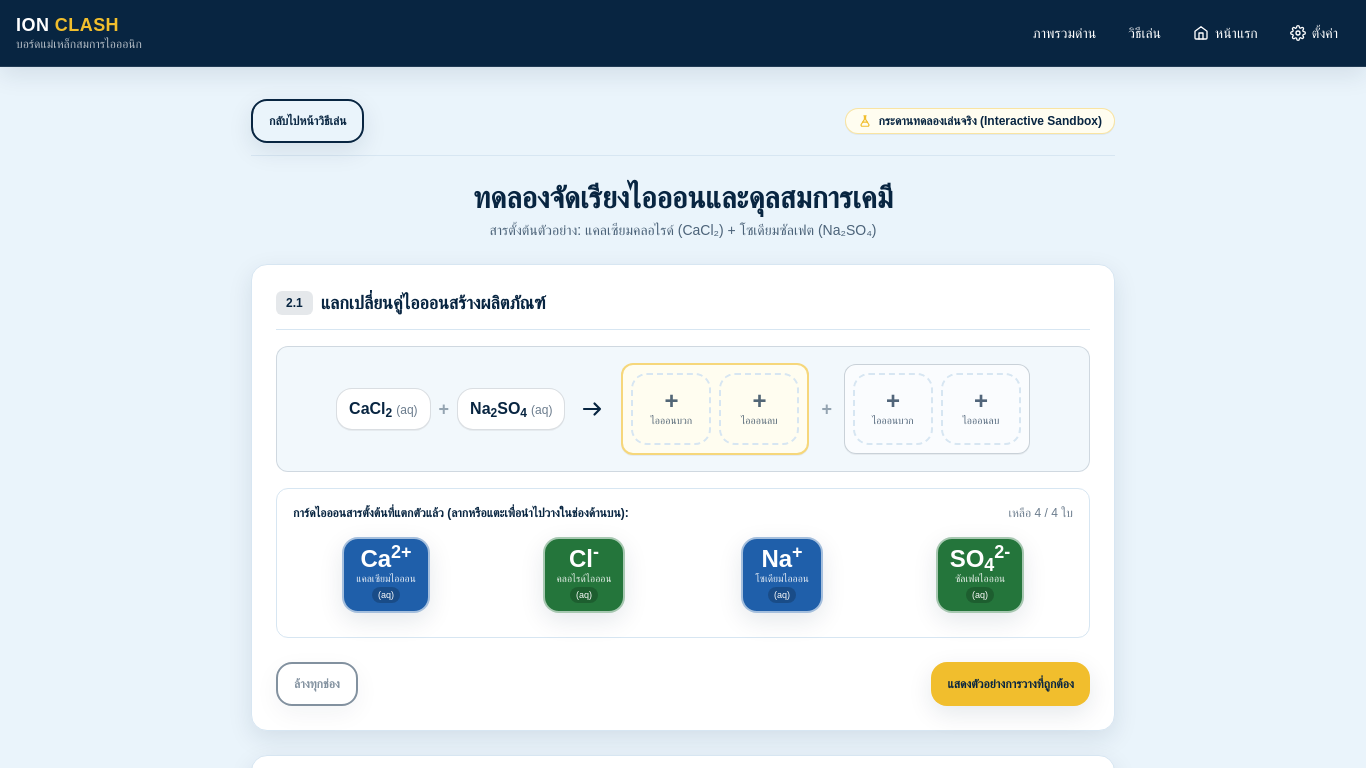
Test: How to Play Sandbox Page (/how-to-play/sandbox) › มีส่วน 2.1 แลกเปลี่ยนคู่ไอออนสร้างผลิตภัณฑ์ พร้อมปุ่มเติม/ล้าง
The width and height of the screenshot is (1366, 768).
Expected: the heading "แลกเปลี่ยนคู่ไอออนสร้างผลิตภัณฑ์" is shown, left=321, top=288, right=545, bottom=316
Expected: the button "ล้างทุกช่อง" is shown, left=276, top=662, right=358, bottom=706
Step 1. Click the button "แสดงตัวอย่างการวางที่ถูกต้อง" → coordinates (1011, 684), box left=931, top=662, right=1090, bottom=706
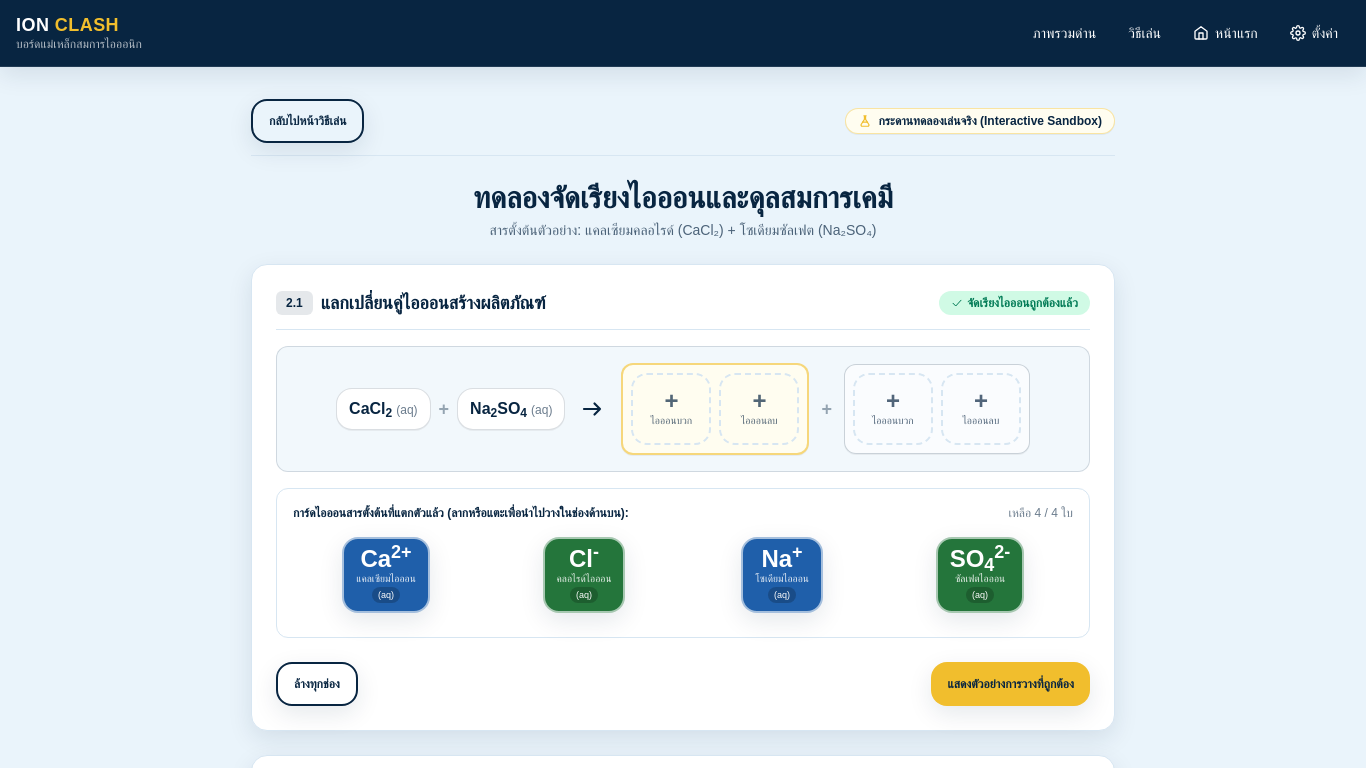
Expected: the text "จัดเรียงไอออนถูกต้องแล้ว" is shown, left=939, top=290, right=1090, bottom=314
Step 2. Click the button "ล้างทุกช่อง" → coordinates (317, 684), box left=276, top=662, right=358, bottom=706
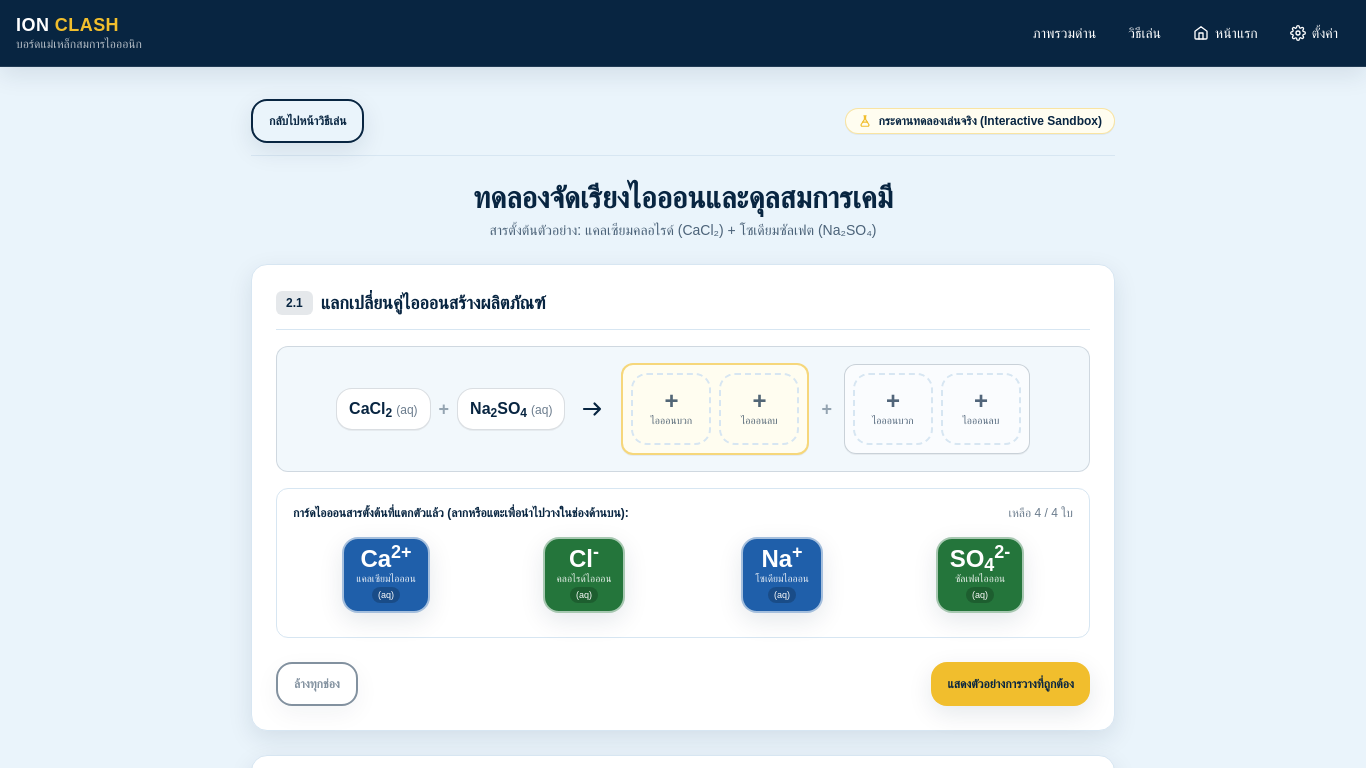
Expected: the text "จัดเรียงไอออนถูกต้องแล้ว" is gone
